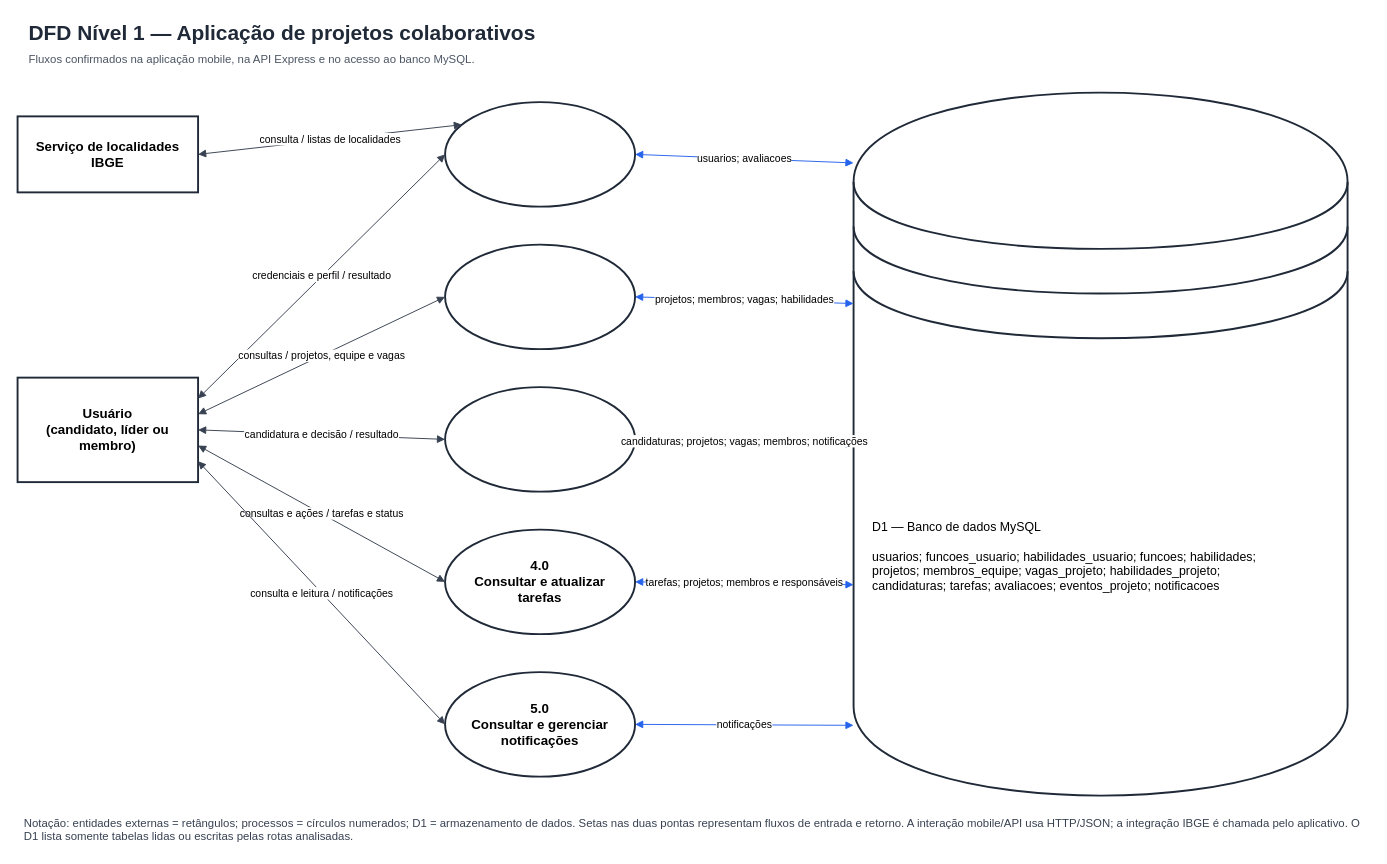
The diagram is 1387 pixels wide and 864 high, and some of its shapes have lost their labels. The shapes that lost their labels are listed below. From the top down, each one's centre as x and y in pixels, then its label:
At (540,154): "1.0 Autenticar e gerenciar perfil".
At (540,296): "2.0 Consultar projetos, equipe e vagas".
At (540,439): "3.0 Gerenciar candidaturas e entrada no projeto".
